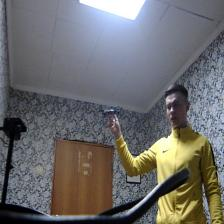drone: (96, 96, 126, 120)
